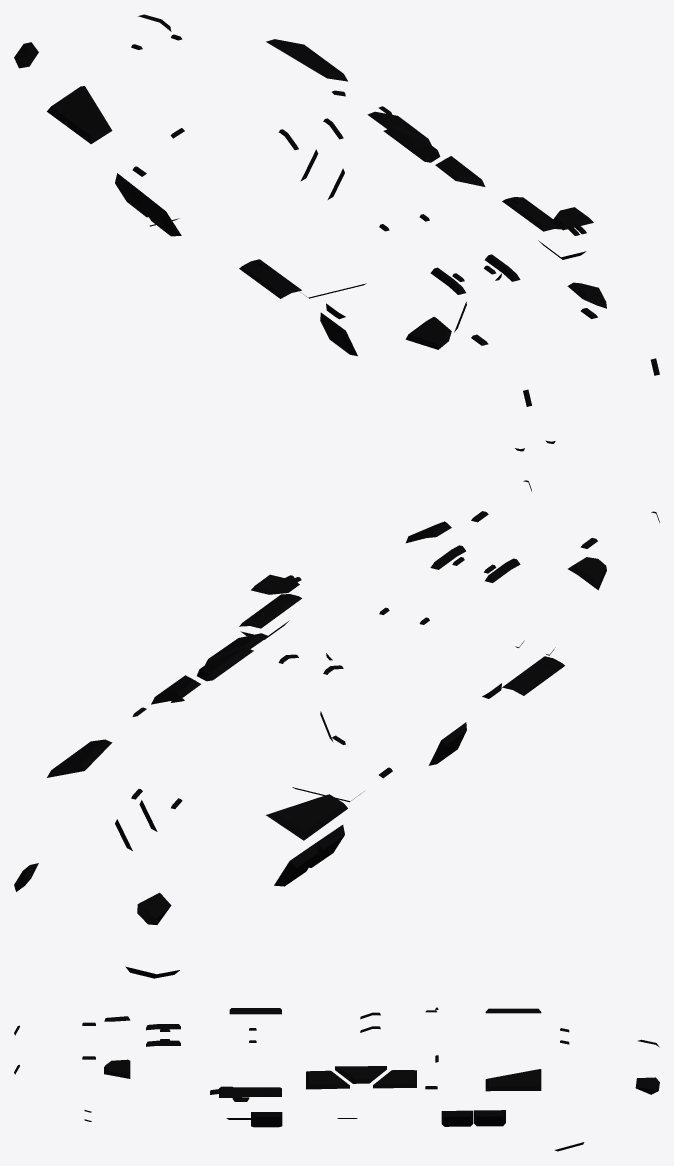
File: hgn_cf_assa_01_t5.glb
3 renders of one model, top to bottom at view 1: azimuth 30°, elevation 25°; view 2: azimuth 150°, elevation 25°; view 3: azimuth 270°, elevation 25°, orthographic. The views are drawn at different scales.
Visible parts, largest first — view 1: hgn_assault_frigate_01_t5_LOD0; view 2: hgn_assault_frigate_01_t5_LOD0; view 3: hgn_assault_frigate_01_t5_LOD0.
Part boxes in pixels (x1,y1,x2,y2): hgn_assault_frigate_01_t5_LOD0: (14, 14, 659, 451); hgn_assault_frigate_01_t5_LOD0: (14, 480, 659, 978); hgn_assault_frigate_01_t5_LOD0: (14, 1007, 659, 1151).
Size of what is drawn, in the model's own units: 1.21 by 0.7734 by 3.54.
Materials: 1 (1 with a texture image).
